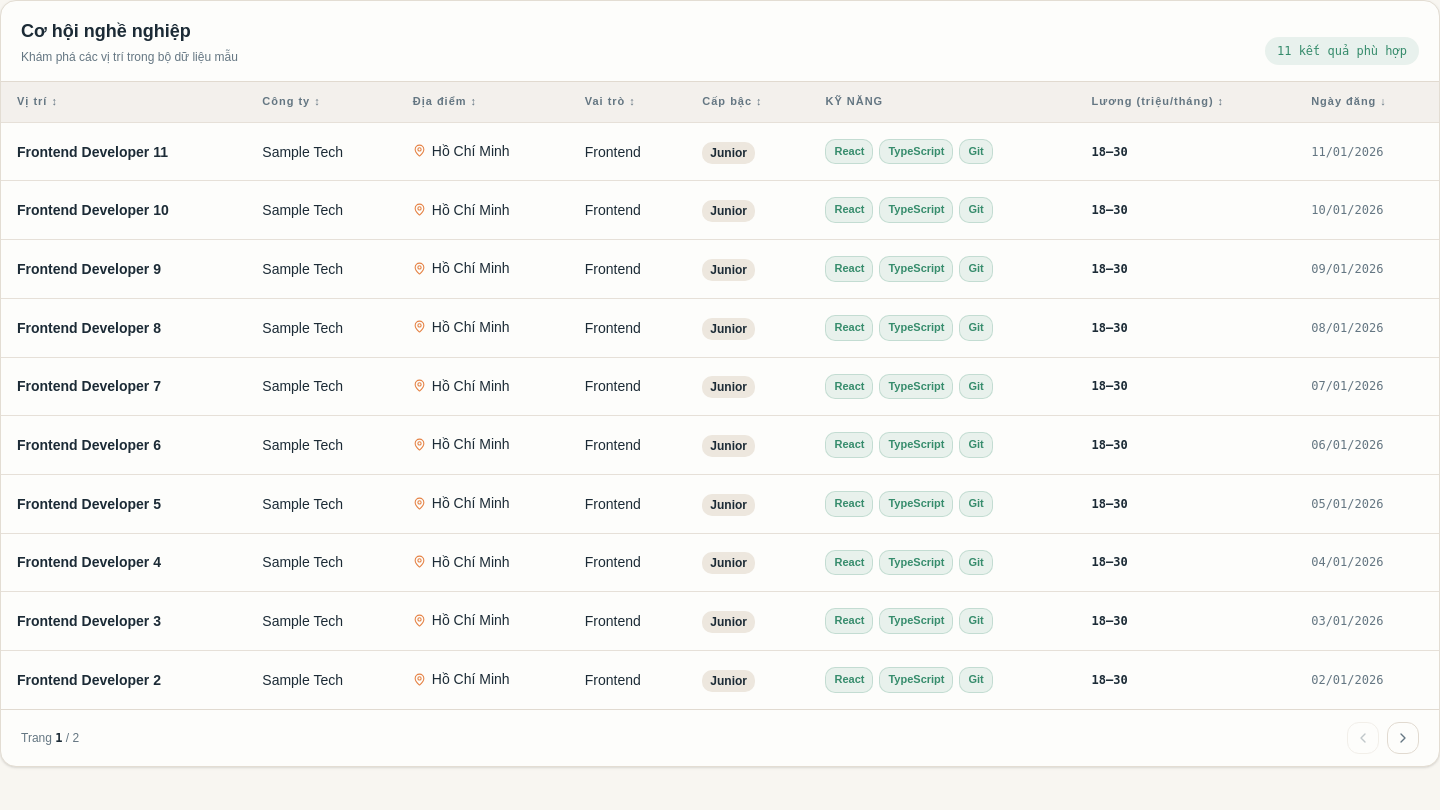
Test: dashboard features › paginates the job table in pages of ten
What coordinates should you click on to do the following:
click the button named "Trang sau"
I would click on:
 (1403, 738)
Its box is [1387,722,1419,754].
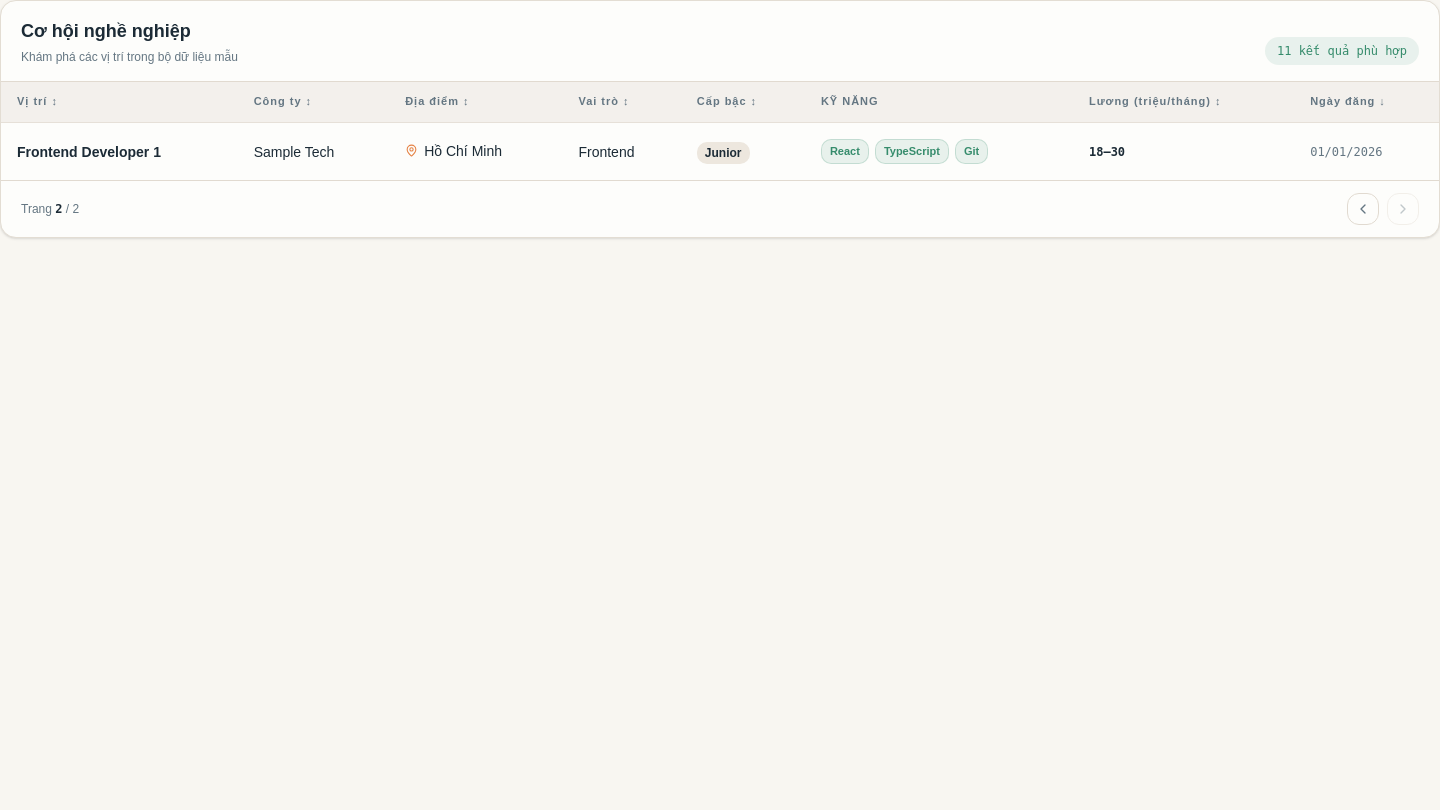
Check: the text "Frontend Developer 1" is shown, box [17,144,161,160]
Check: the row with test id "row-job-VN-0001" is shown, box [1,122,1439,180]
